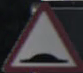Speed Breaker ahead: (7, 15, 68, 66)
